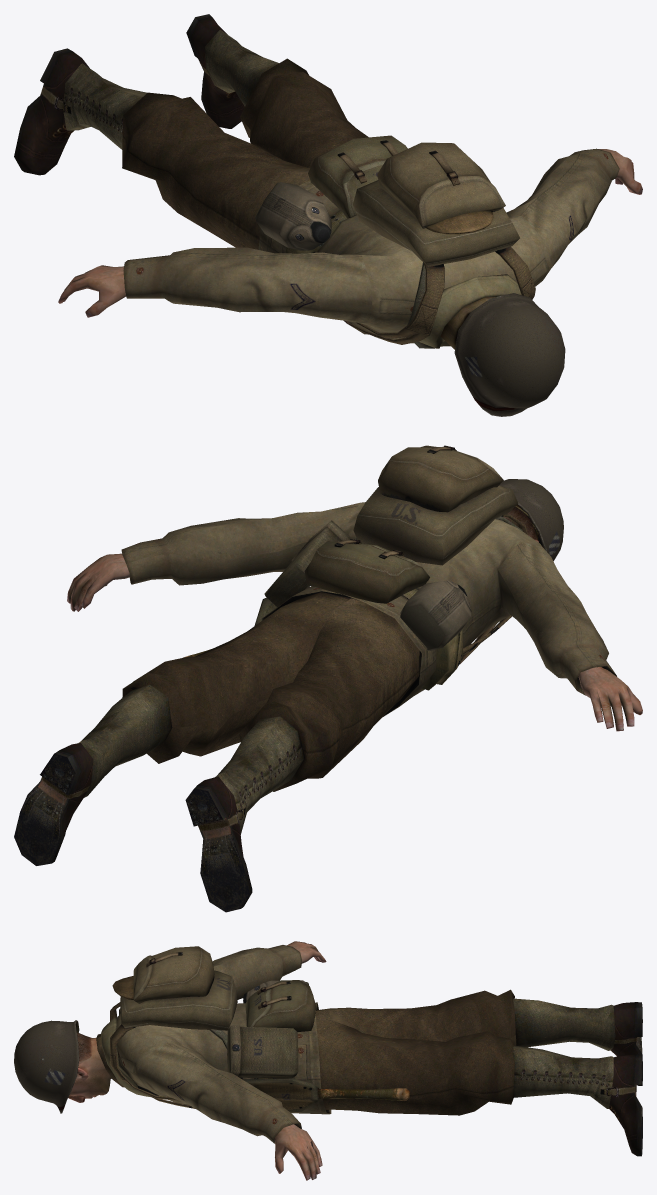
The model's file is Soldier.obj.
The picture shows the model from 3 angles, top to bottom: view 1: azimuth 30°, elevation 25°; view 2: azimuth 150°, elevation 25°; view 3: azimuth 270°, elevation 25°; orthographic projection. The views are drawn at different scales.
Parts seen in each view (by area): view 1: bodyassault, gear1, helmet, gear, gear_pivot; view 2: bodyassault, gear1, gear, helmet; view 3: bodyassault, gear1, gear, helmet, obj1, gear_pivot.
Boxes of the visible parts, x1=… form: bodyassault: x1=14, y1=14, x2=642, y2=349; gear1: x1=353, y1=142, x2=519, y2=266; helmet: x1=454, y1=293, x2=565, y2=416; gear: x1=255, y1=135, x2=434, y2=348; gear_pivot: x1=344, y1=246, x2=535, y2=344; bodyassault: x1=14, y1=502, x2=642, y2=912; gear1: x1=353, y1=445, x2=517, y2=565; gear: x1=264, y1=516, x2=522, y2=690; helmet: x1=499, y1=479, x2=563, y2=560; bodyassault: x1=68, y1=941, x2=642, y2=1180; gear1: x1=112, y1=946, x2=237, y2=1030; gear: x1=119, y1=980, x2=315, y2=1079; helmet: x1=14, y1=1020, x2=79, y2=1113; obj1: x1=243, y1=1078, x2=409, y2=1112; gear_pivot: x1=109, y1=1002, x2=195, y2=1108.
Bounding box in the file's own units: 59.38 × 21.8 × 73.95.
